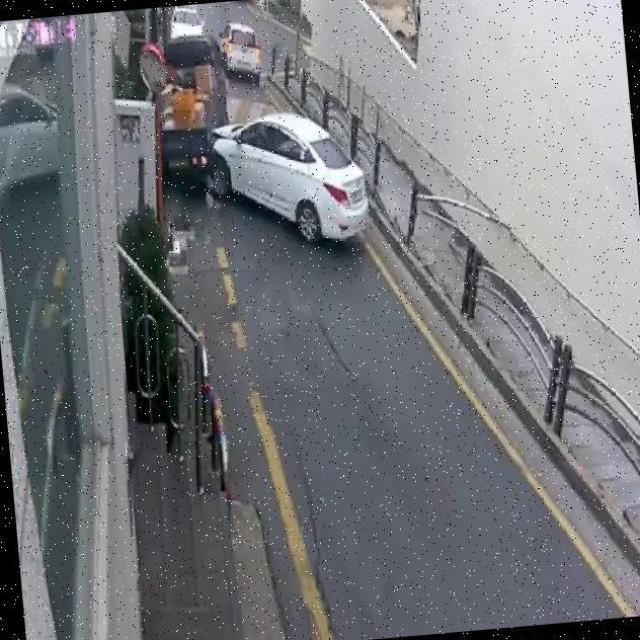accident: (159, 79, 297, 211)
